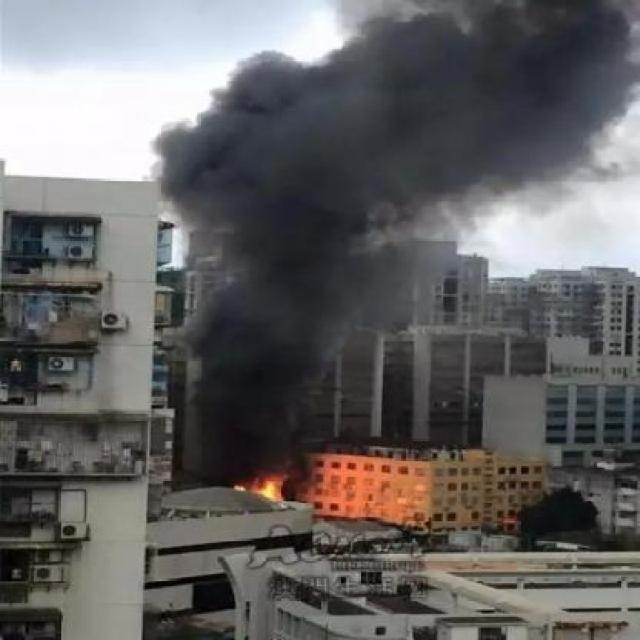Fire: (232, 469, 286, 503)
